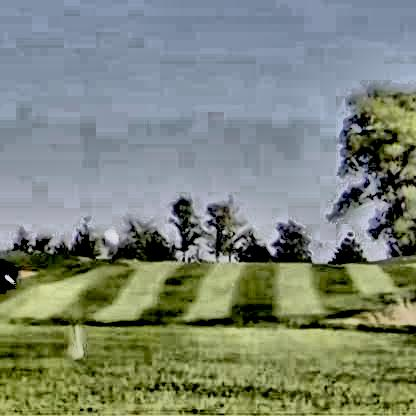golfball: (99, 228, 115, 244)
